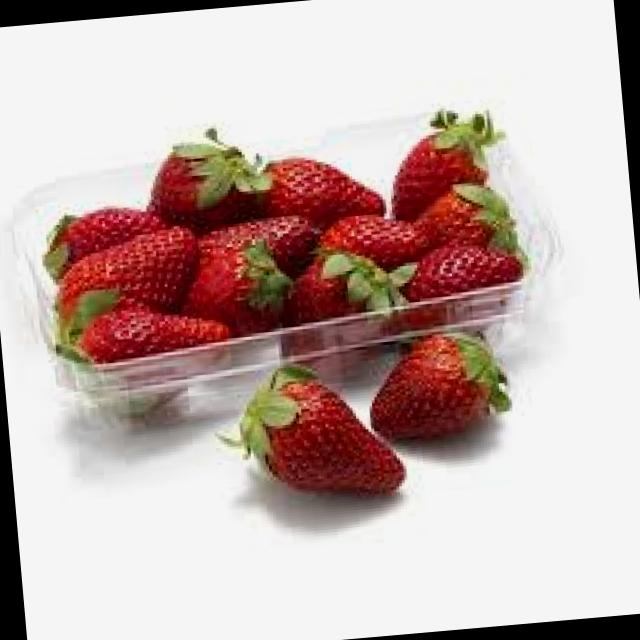tofu: (223, 341, 418, 534), (363, 324, 508, 444), (143, 126, 275, 236)
